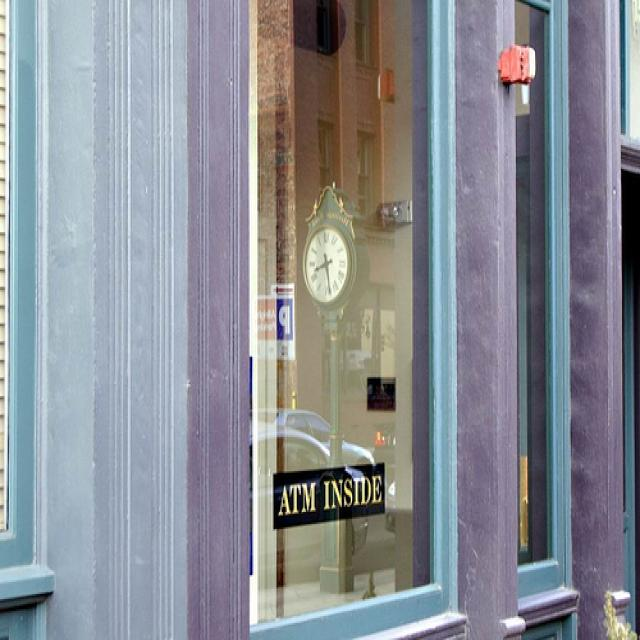Vehicle: (273, 401, 381, 471)
